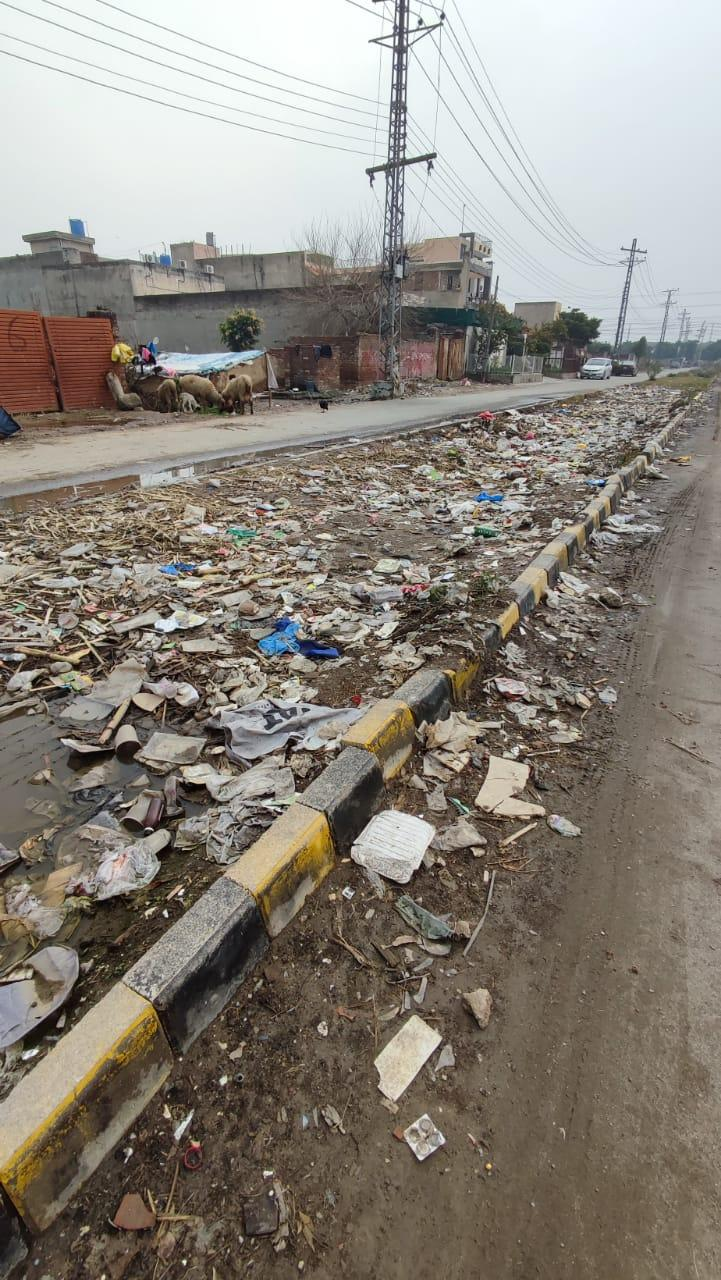garbage: (6, 419, 623, 871)
